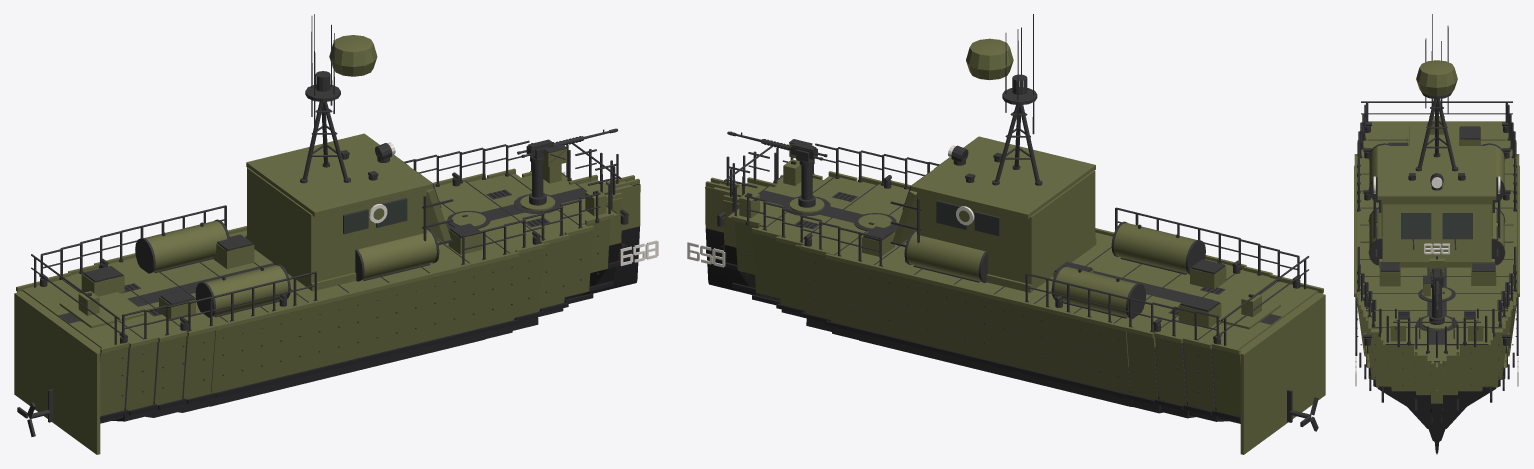
The model's file is patrol_boat.glb.
3 renders of one model, left to right at view 1: azimuth 30°, elevation 25°; view 2: azimuth 150°, elevation 25°; view 3: azimuth 270°, elevation 25°, orthographic. The views are drawn at different scales.
Parts seen in each view (by area): view 1: PatrolBoat, FrontTurret; view 2: PatrolBoat, FrontTurret; view 3: PatrolBoat, FrontTurret.
Part boxes in pixels (x1=…): PatrolBoat: x1=14, y1=14, x2=658, y2=454; FrontTurret: x1=514, y1=128, x2=617, y2=213; PatrolBoat: x1=687, y1=14, x2=1325, y2=454; FrontTurret: x1=727, y1=131, x2=830, y2=216; PatrolBoat: x1=1354, y1=14, x2=1519, y2=454; FrontTurret: x1=1416, y1=268, x2=1457, y2=332.
Size of what is drawn, in the model's own units: 11.09 by 6.13 by 3.01.
